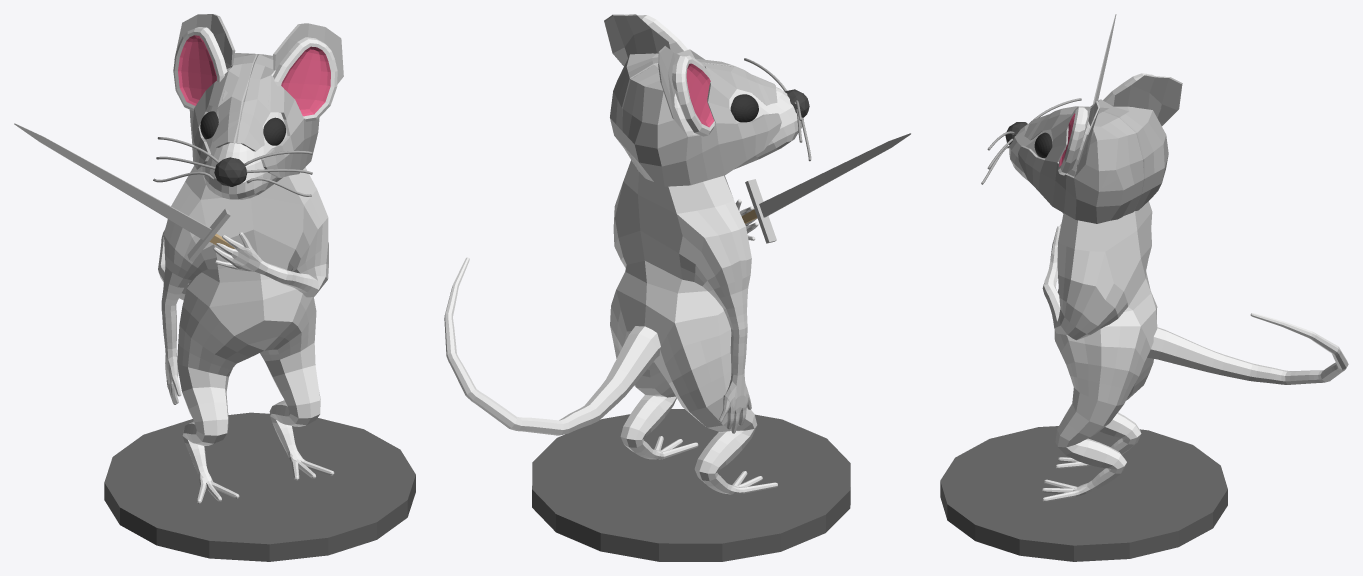
File: LittleKnight.glb
3 renders of one model, left to right at view 1: azimuth 30°, elevation 25°; view 2: azimuth 150°, elevation 25°; view 3: azimuth 270°, elevation 25°, orthographic. The views are drawn at different scales.
Visible parts, largest first — view 1: SwordOverHeart.001; view 2: SwordOverHeart.001; view 3: SwordOverHeart.001.
Boxes of the visible parts, left/top/right/bottom form: SwordOverHeart.001: left=14, top=14, right=415, bottom=561; SwordOverHeart.001: left=444, top=14, right=911, bottom=561; SwordOverHeart.001: left=940, top=14, right=1348, bottom=561.
Bounding box in the file's own units: 1.49 × 1.79 × 1.56.
